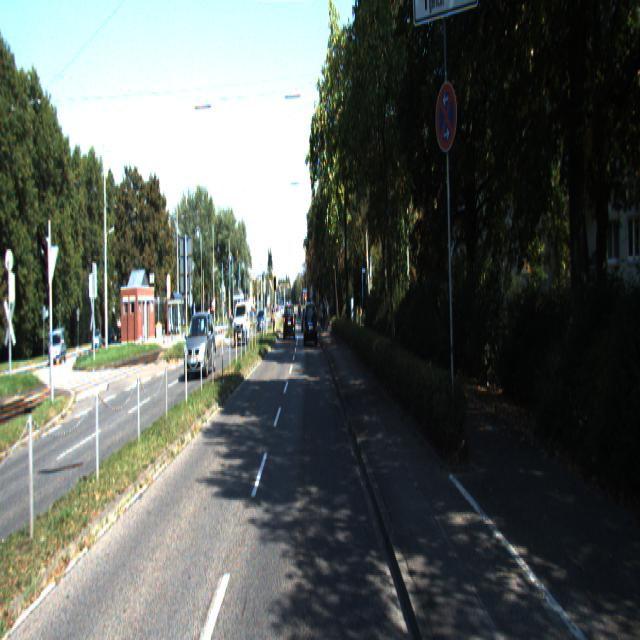Car: (184, 309, 217, 382), (234, 301, 251, 344), (304, 302, 318, 348), (284, 304, 296, 341)
